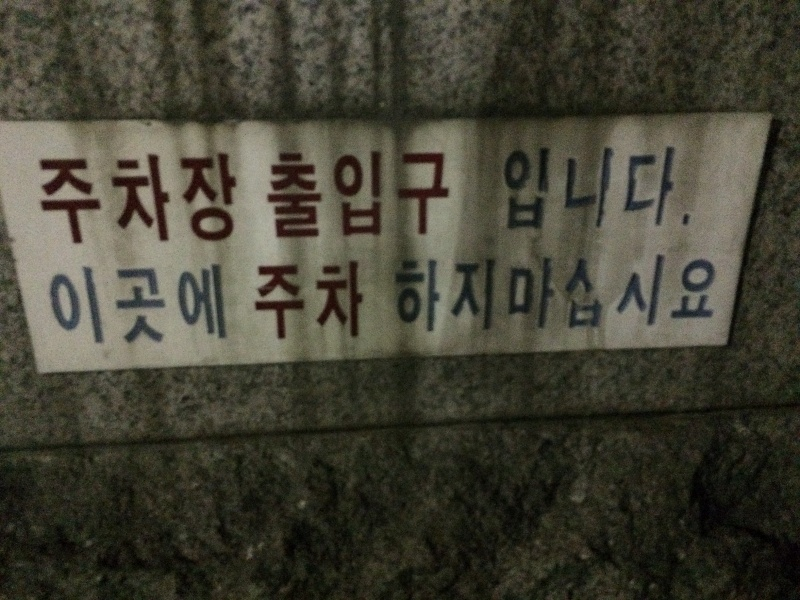text: (225, 149, 241, 248), (49, 149, 64, 248), (65, 149, 80, 248), (81, 149, 96, 248), (97, 149, 112, 248), (113, 149, 128, 248), (129, 149, 144, 248), (145, 149, 160, 248), (161, 149, 176, 248), (177, 149, 192, 248), (193, 149, 208, 248), (209, 149, 224, 248), (273, 148, 288, 242), (289, 148, 304, 242), (305, 148, 320, 242), (321, 148, 336, 242), (337, 148, 352, 242), (353, 148, 368, 242), (369, 148, 384, 242), (385, 148, 400, 242), (401, 148, 416, 242), (417, 148, 432, 242), (433, 148, 448, 242), (513, 145, 528, 236), (529, 145, 544, 236), (545, 145, 560, 236), (561, 145, 576, 236), (577, 145, 592, 236), (593, 145, 608, 236), (609, 145, 624, 236), (625, 145, 640, 236), (641, 145, 656, 236), (657, 145, 672, 236), (673, 145, 688, 236), (49, 263, 64, 351), (65, 263, 80, 351), (81, 263, 96, 351), (97, 263, 112, 351), (113, 263, 128, 351), (129, 263, 144, 351), (145, 263, 160, 351), (161, 263, 176, 351), (177, 263, 192, 351), (193, 263, 208, 351), (209, 263, 224, 351), (257, 258, 272, 345), (273, 258, 288, 345), (289, 258, 304, 345), (305, 258, 320, 345), (321, 258, 336, 345), (337, 258, 352, 345), (401, 254, 416, 338), (417, 254, 432, 338), (433, 254, 448, 338), (449, 254, 464, 338), (465, 254, 480, 338), (481, 254, 496, 338), (497, 254, 512, 338), (513, 254, 528, 338), (529, 254, 544, 338), (353, 258, 367, 345), (577, 254, 592, 334), (641, 251, 656, 331), (657, 251, 672, 331), (673, 251, 688, 331), (689, 251, 704, 331), (705, 251, 720, 331), (36, 149, 48, 248), (545, 254, 559, 338), (564, 254, 576, 334), (593, 254, 603, 334), (689, 145, 697, 236), (631, 251, 640, 331), (505, 145, 512, 236), (449, 148, 454, 242), (395, 254, 400, 338), (268, 148, 272, 242), (225, 263, 229, 351), (45, 263, 48, 351), (721, 251, 724, 331), (254, 258, 256, 345)
